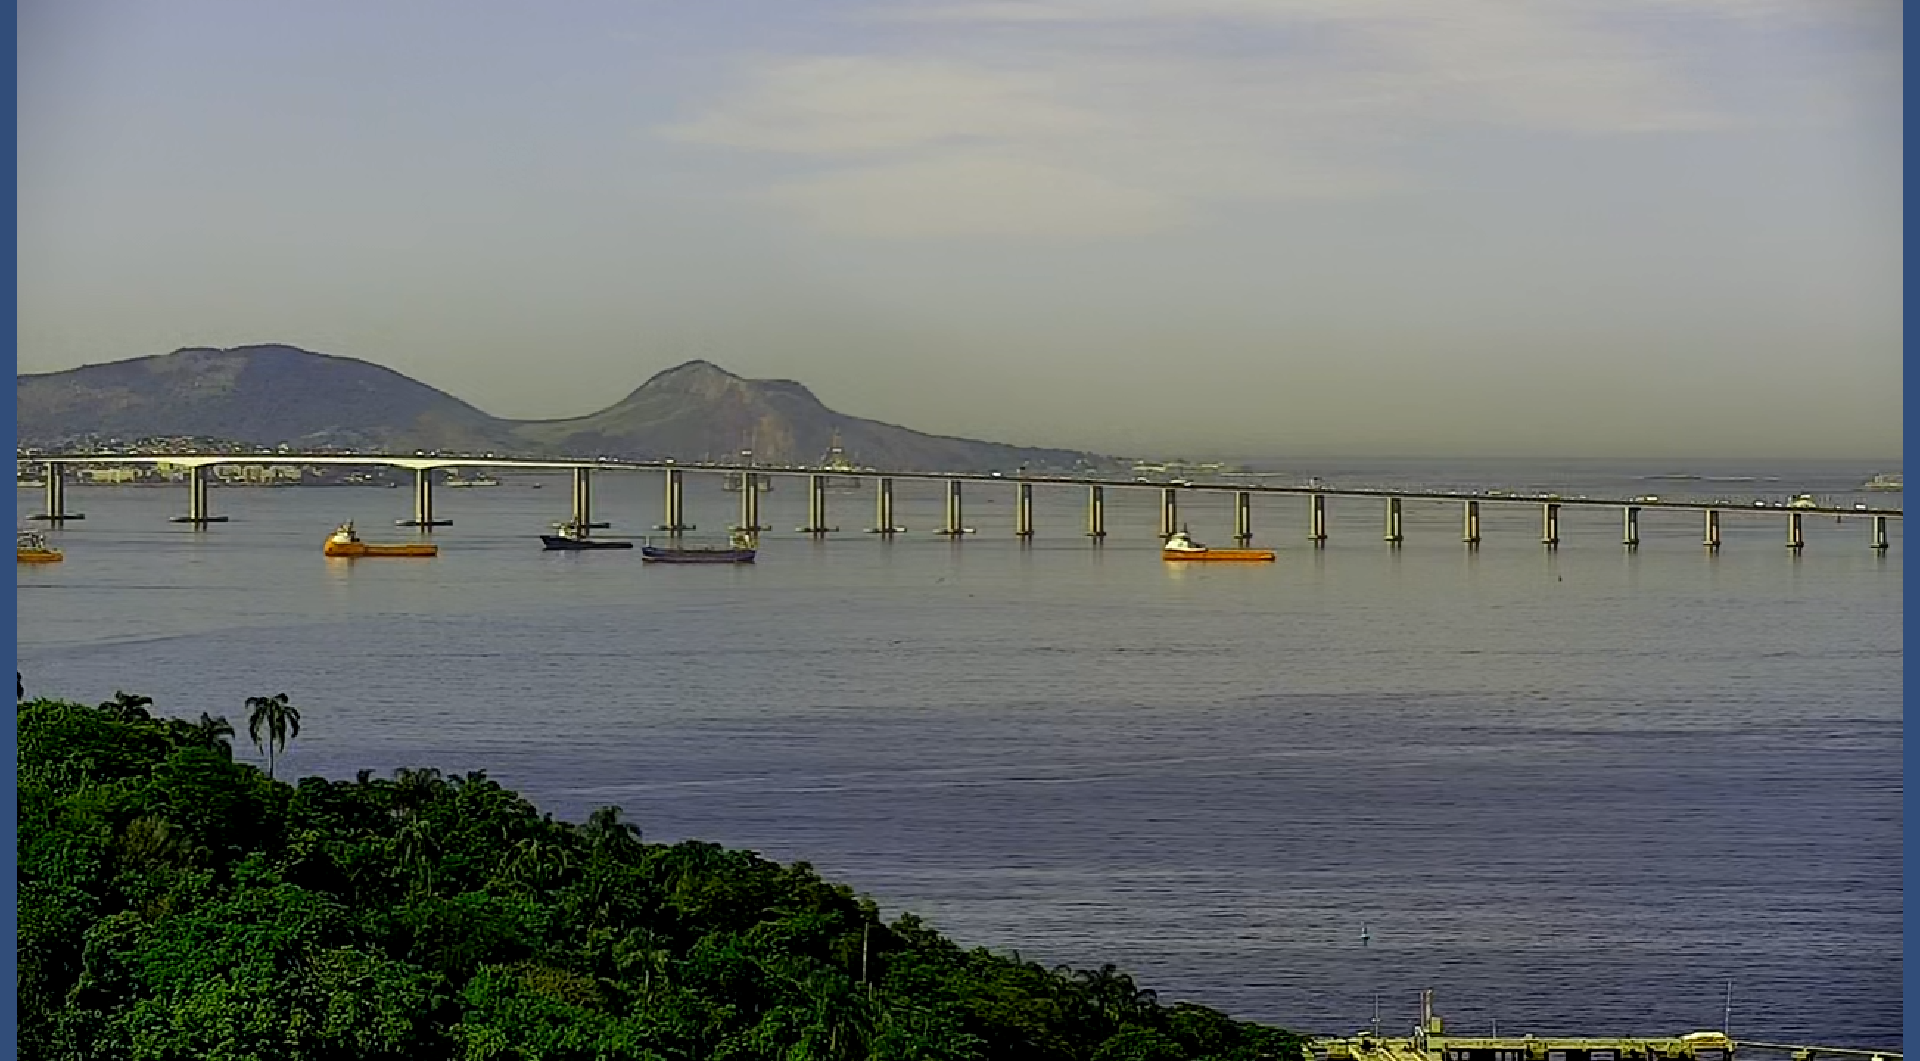Ship2: (639, 524, 761, 564)
Ship5: (321, 516, 443, 559), (1160, 523, 1279, 563), (537, 516, 637, 553)
